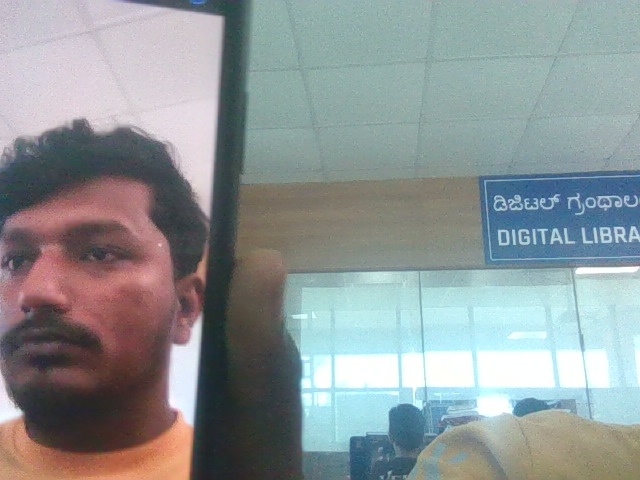fake: (0, 92, 240, 432)
